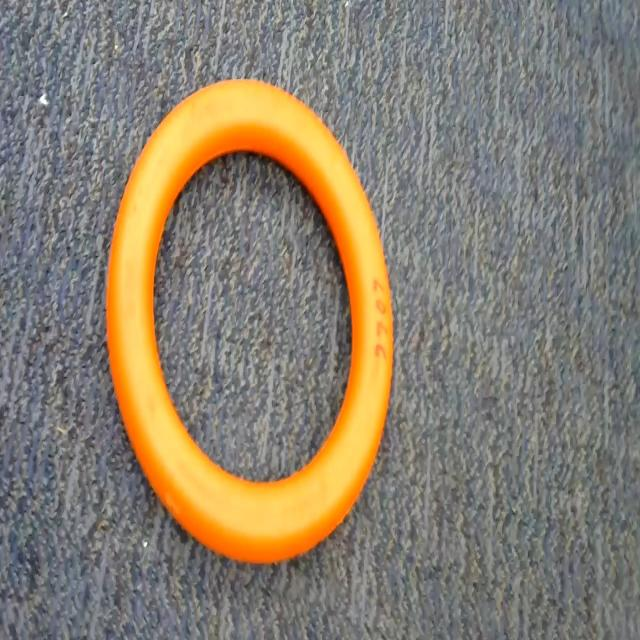note: (103, 73, 419, 584)
